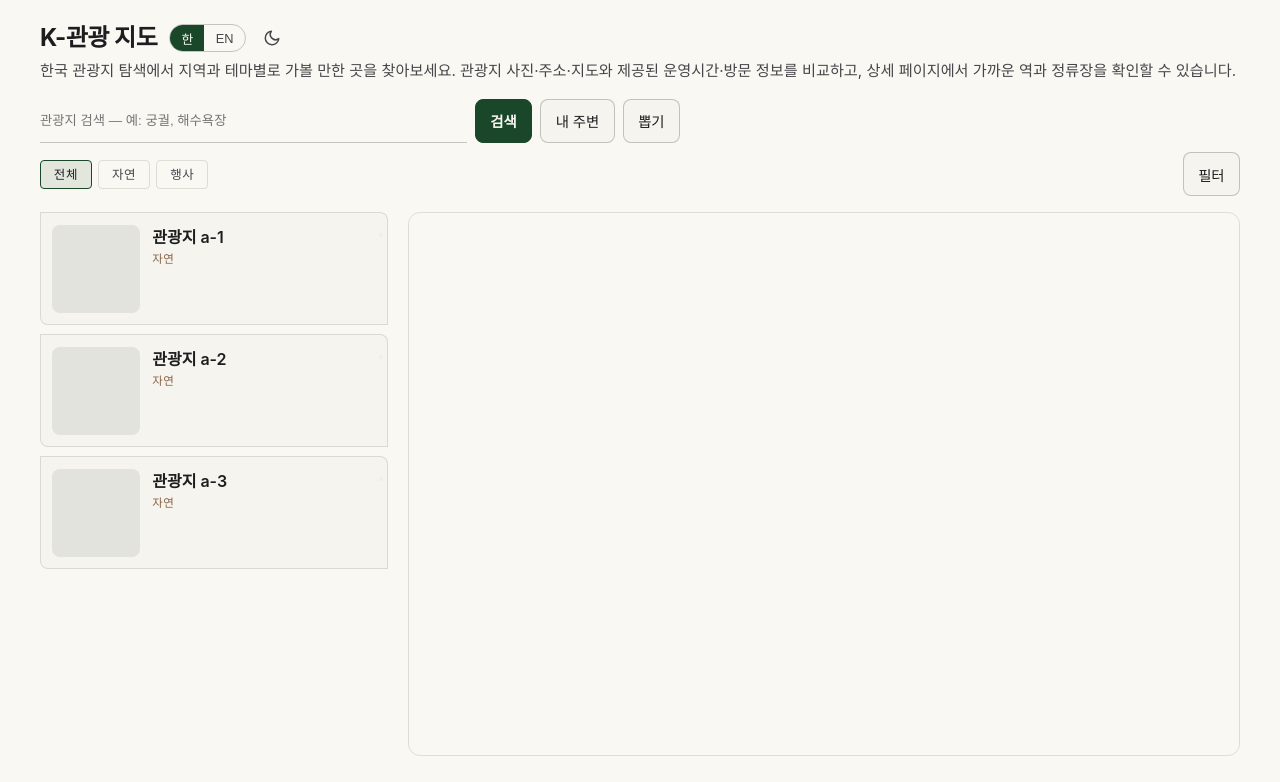
좁은 화면 필터 한 줄 › 분류 칩은 전체·자연·행사 셋이고 나머지는 「필터」 시트에 있다
Expected: the heading "관광지 a-1" is shown, x1=152 y1=225 x2=224 y2=249
Click the button "필터".
click(1211, 174)  # box x1=1183 y1=152 x2=1240 y2=196
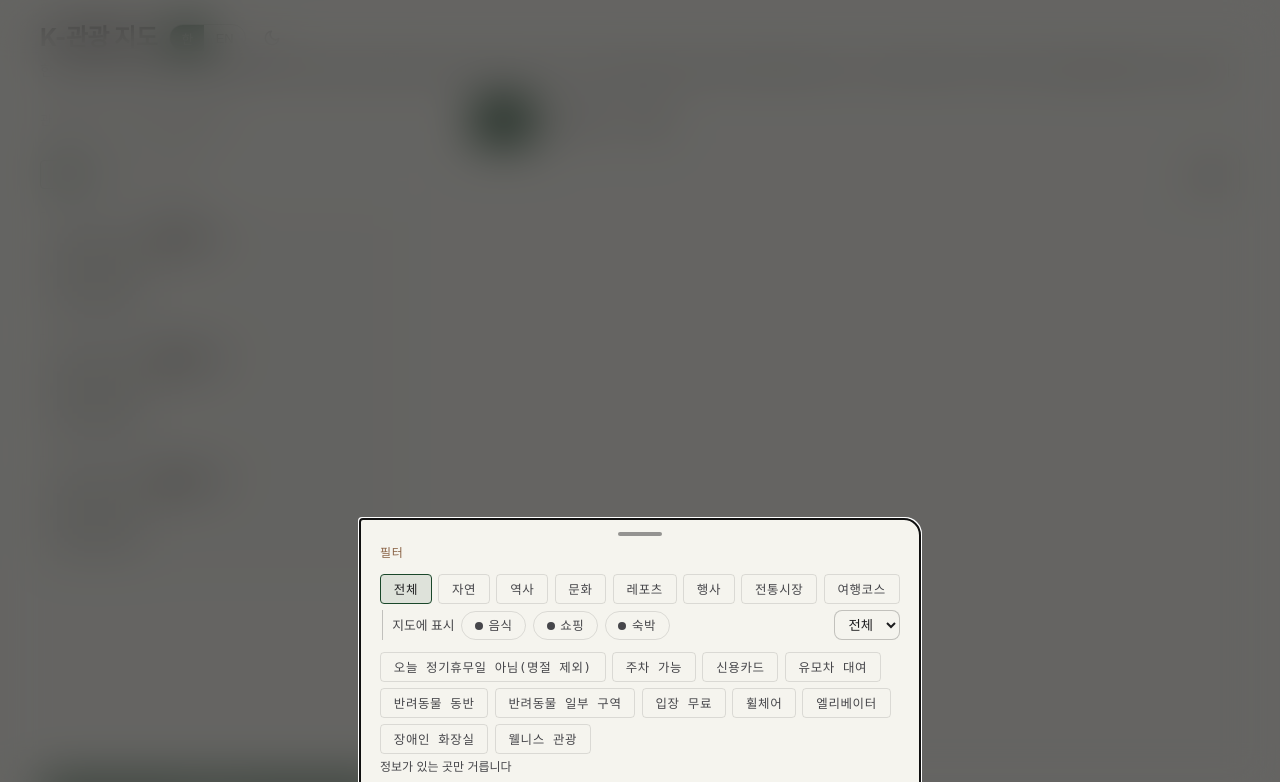
Result: the button "역사" is shown at x1=496 y1=574 x2=548 y2=604
Result: the button "오늘 정기휴무일 아님(명절 제외)" is shown at x1=380 y1=652 x2=606 y2=682
